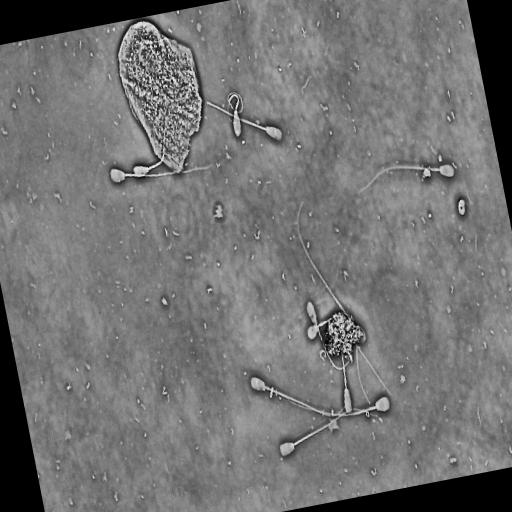dirt-particles: (114, 18, 205, 175), (321, 308, 368, 362), (456, 196, 468, 218)
folded-tail: (226, 99, 238, 122), (231, 92, 243, 114), (235, 97, 240, 111), (228, 93, 232, 99)
normal: (278, 405, 382, 460), (354, 161, 457, 199), (305, 299, 357, 373), (248, 373, 332, 418), (204, 99, 284, 143), (132, 108, 169, 180), (108, 162, 215, 185), (320, 396, 392, 419), (226, 91, 246, 142)
